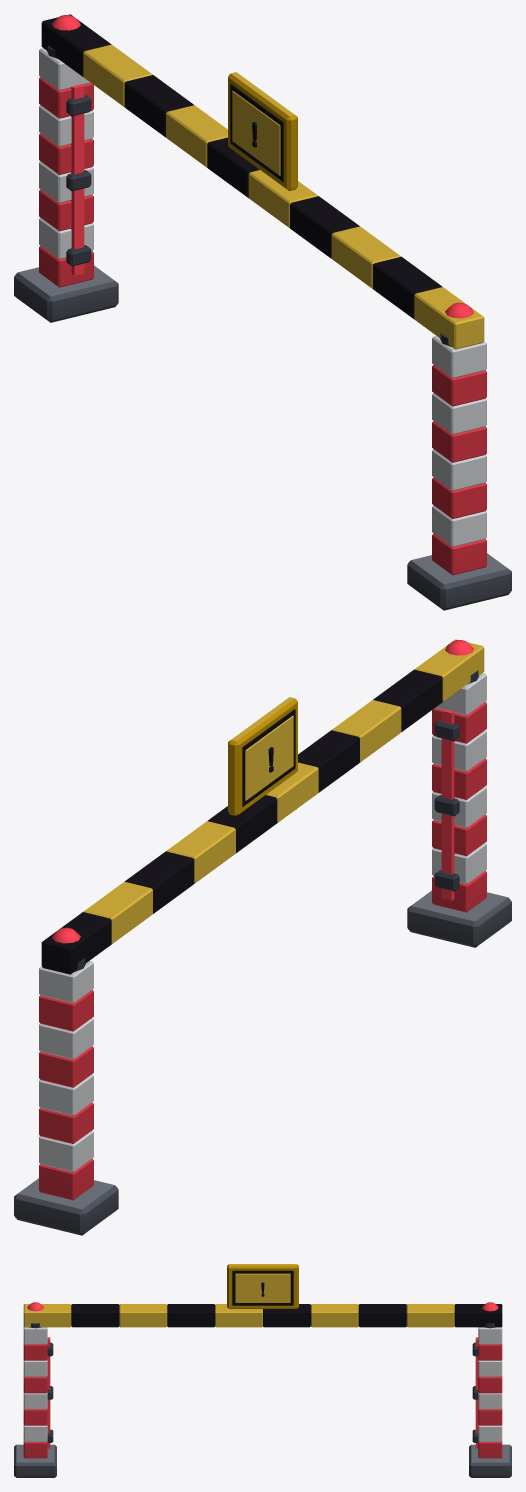
Rendered from gate.glb.
3 renders of one model, top to bottom at view 1: azimuth 30°, elevation 25°; view 2: azimuth 150°, elevation 25°; view 3: azimuth 270°, elevation 25°, orthographic. The views are drawn at different scales.
Visible parts, largest first — view 1: Body, Glow; view 2: Body, Glow; view 3: Body, Glow.
Part boxes in pixels (<box>): Body: <box>14,14,511,610</box>; Glow: <box>52,15,473,318</box>; Body: <box>14,639,511,1235</box>; Glow: <box>52,640,473,943</box>; Body: <box>14,1264,511,1477</box>; Glow: <box>27,1302,498,1448</box>.
Size of the model in its own units: 1 by 4.7 by 10.4.
